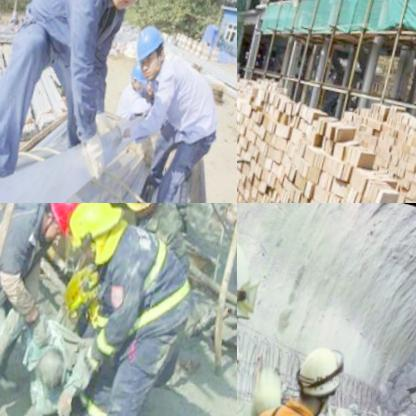helmet: (237, 214, 271, 363), (291, 333, 353, 410), (67, 203, 133, 264), (129, 14, 175, 78), (36, 203, 85, 244), (115, 203, 172, 223), (127, 56, 155, 92), (237, 333, 246, 384)
